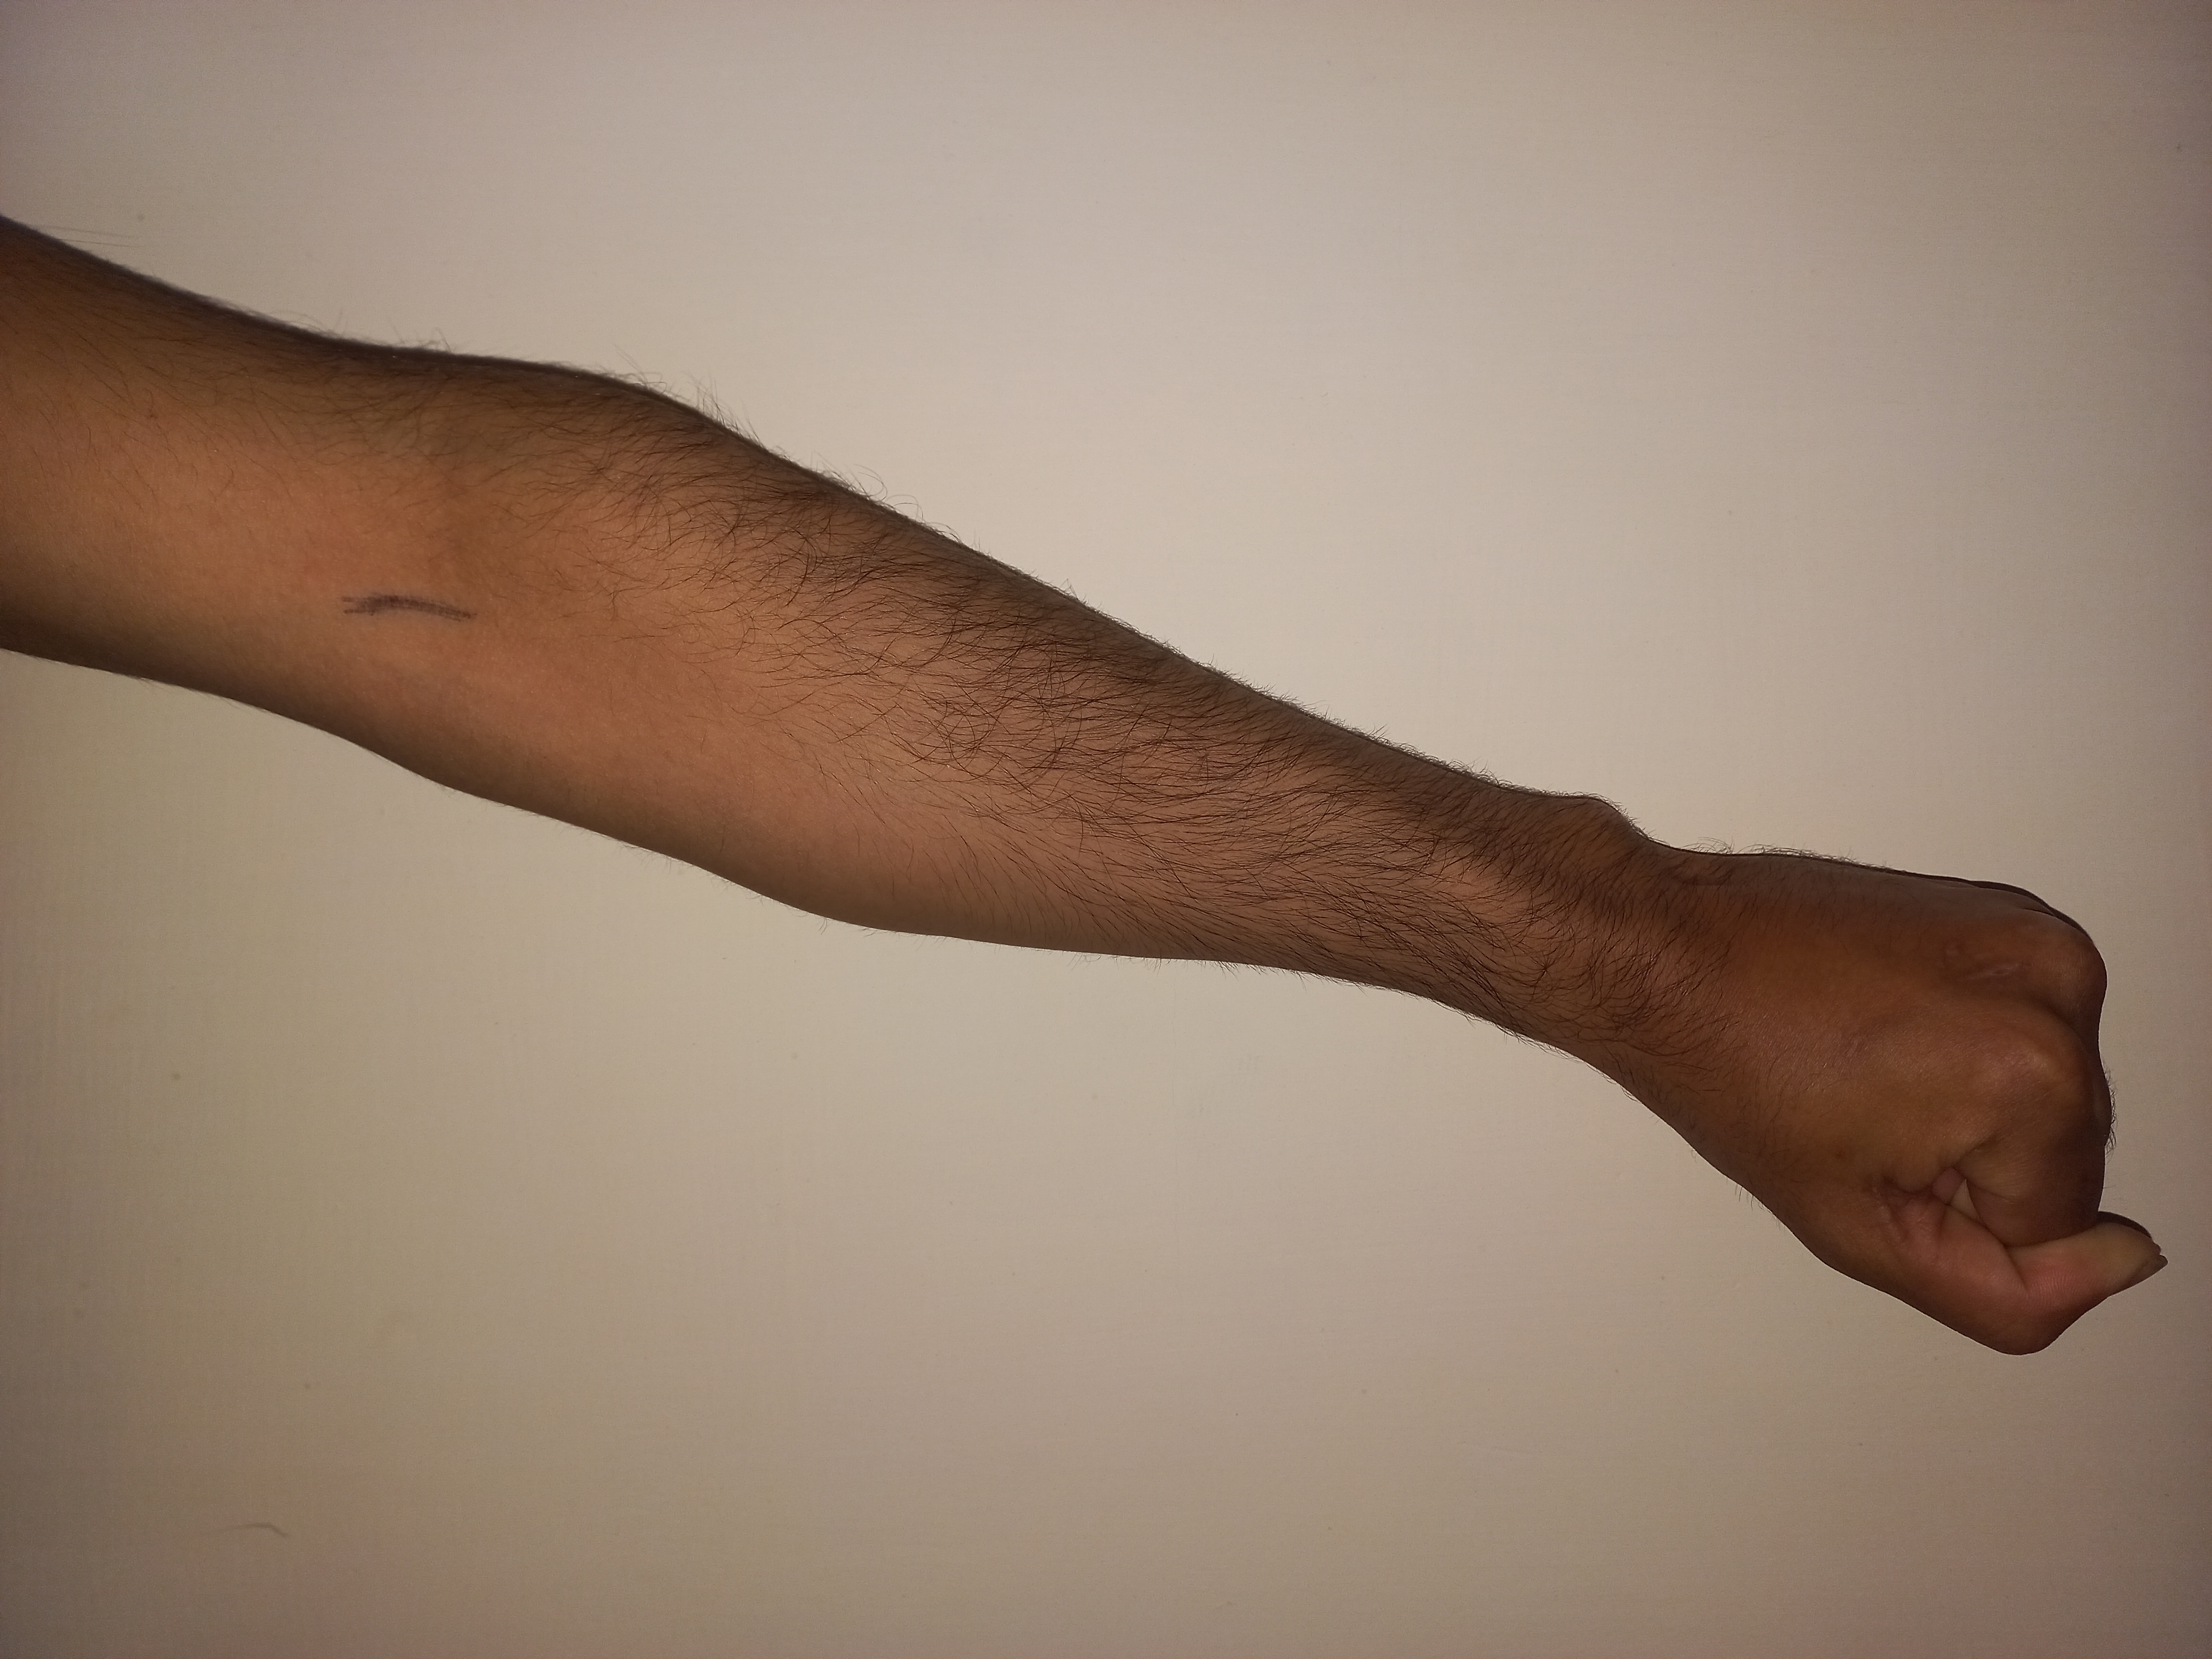vein: (327, 572, 488, 636)
